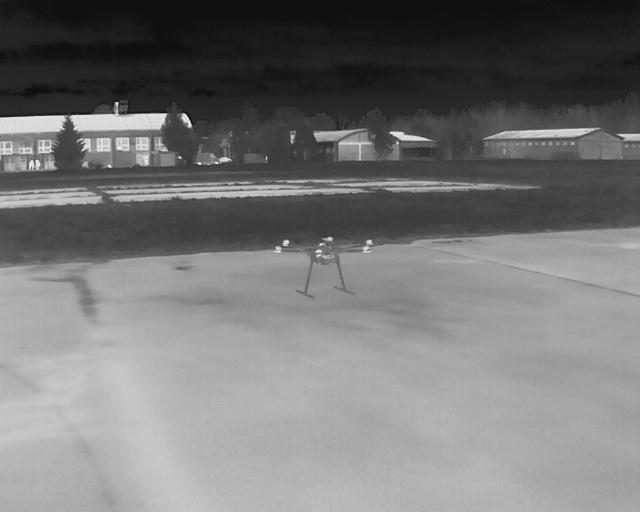drone: (262, 235, 374, 302)
